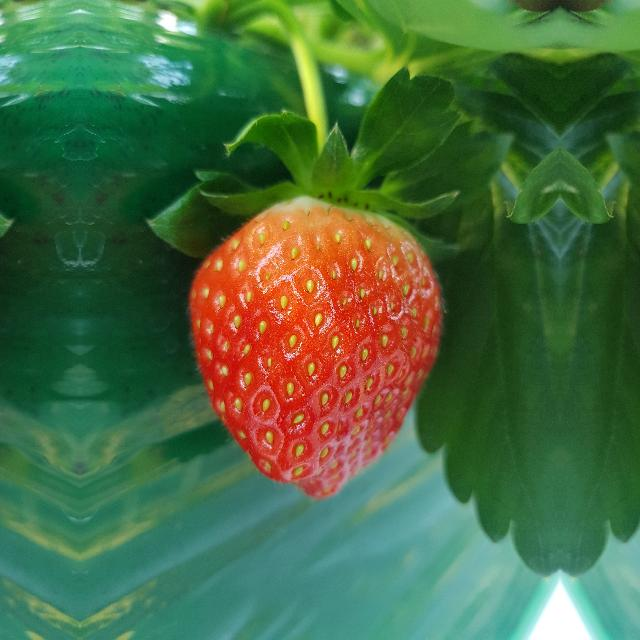Health_100: (186, 195, 444, 501)
